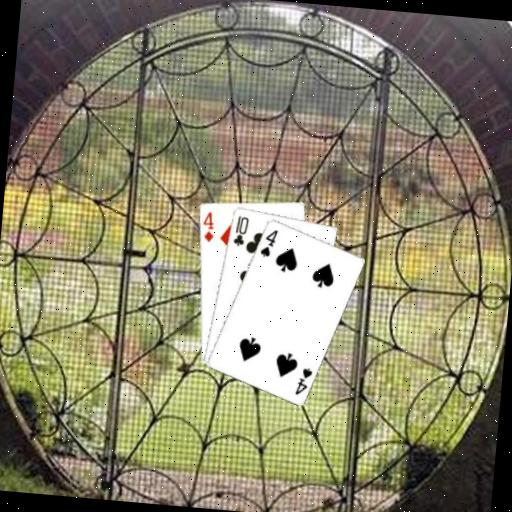10C: (230, 212, 251, 248)
4D: (199, 208, 217, 244)
4S: (257, 225, 280, 259), (292, 364, 315, 398)
